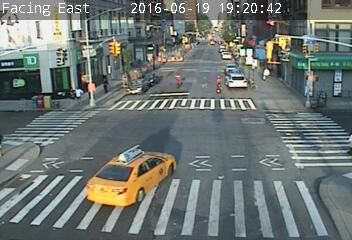neg: (104, 138, 131, 173), (121, 134, 146, 168), (232, 56, 248, 77), (296, 93, 309, 110), (290, 48, 302, 64)
pos: (69, 85, 86, 107), (65, 87, 79, 106)
